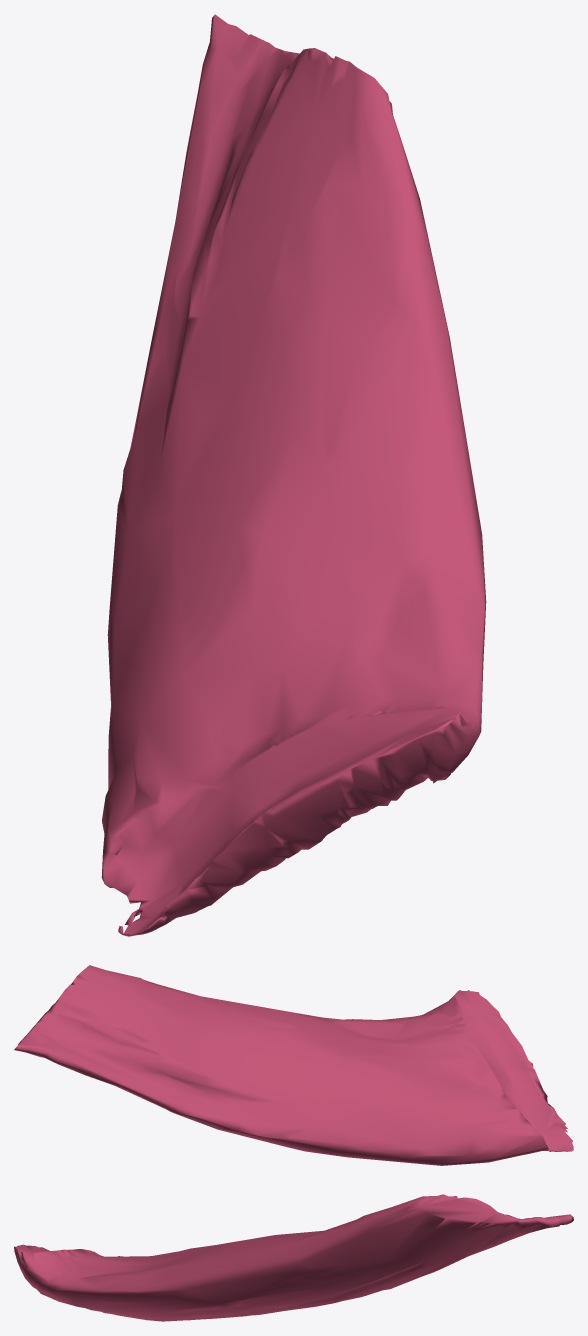
3 renders of one model, top to bottom at view 1: azimuth 30°, elevation 25°; view 2: azimuth 150°, elevation 25°; view 3: azimuth 270°, elevation 25°, orthographic. The views are drawn at different scales.
Visible parts, largest first — view 1: 左侧耻骨肌; view 2: 左侧耻骨肌; view 3: 左侧耻骨肌.
Part boxes in pixels (left/top/right/bottom): 左侧耻骨肌: left=101, top=14, right=486, bottom=936; 左侧耻骨肌: left=14, top=965, right=573, bottom=1165; 左侧耻骨肌: left=14, top=1194, right=573, bottom=1321.
Size of the model in its own units: 0.122 by 0.0893 by 0.1934.
